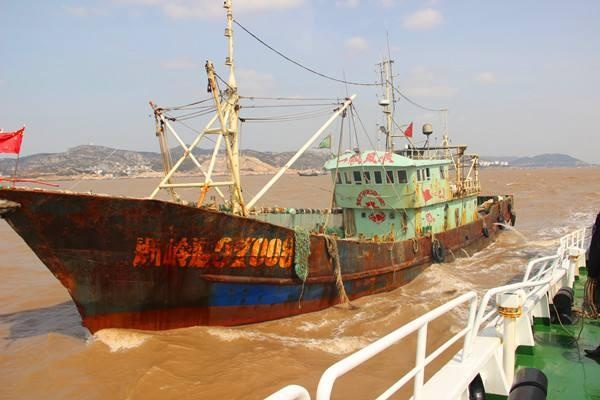otherboat: (1, 72, 521, 337)
